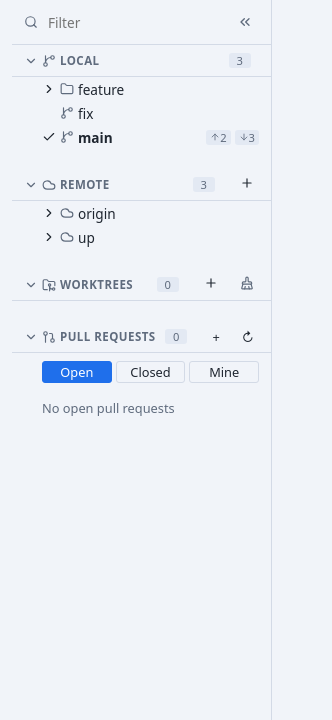
Test case: Sidebar › shows No matches when the filter hides everything
Type "zzzz" into the search field named "Filter sidebar" at (134, 22), box top-left (46, 12), bottom-right (223, 32)
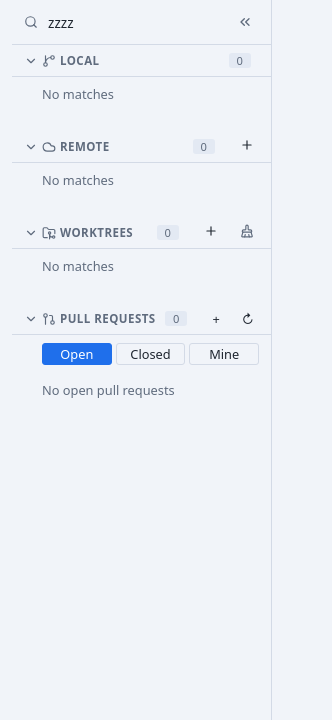
Expected: the 1st text "No matches" is shown, top-left (42, 85), bottom-right (114, 103)
Expected: the 2nd text "No matches" is shown, top-left (42, 171), bottom-right (114, 189)
